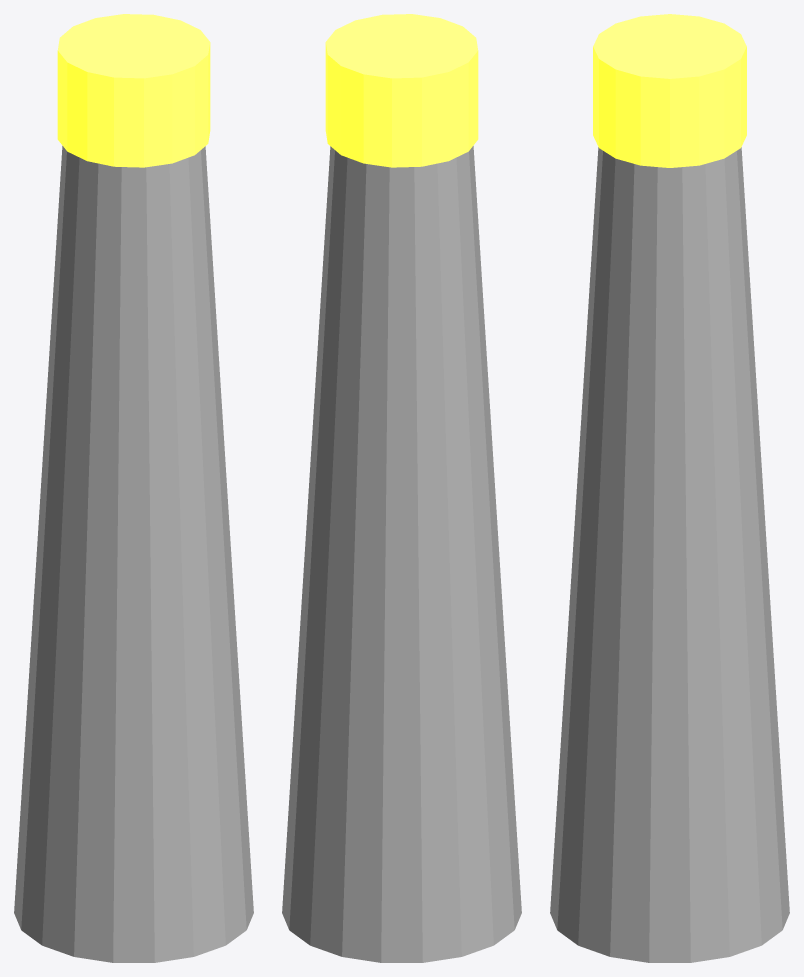
Rendered from prop_lighthouse.glb.
The picture shows the model from 3 angles, left to right: view 1: azimuth 30°, elevation 25°; view 2: azimuth 150°, elevation 25°; view 3: azimuth 270°, elevation 25°; orthographic projection.
Visible parts, largest first — view 1: prop_lighthouse; view 2: prop_lighthouse; view 3: prop_lighthouse.
Boxes of the visible parts, <box> form: prop_lighthouse: <box>14,14,253,962</box>; prop_lighthouse: <box>282,14,521,962</box>; prop_lighthouse: <box>550,14,789,962</box>.
Size of the model in its own units: 7.68 by 31.1 by 7.8.
